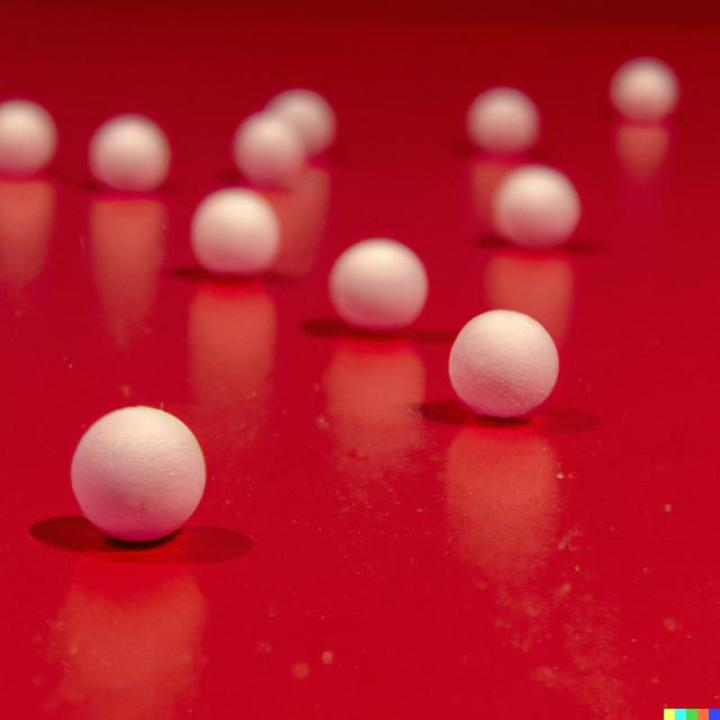white: (71, 406, 207, 544), (448, 310, 560, 420), (330, 238, 427, 334), (191, 190, 280, 278), (493, 166, 581, 248), (92, 118, 175, 192), (234, 116, 306, 187), (467, 87, 539, 154), (612, 56, 680, 124), (274, 90, 338, 154), (0, 100, 56, 173)
